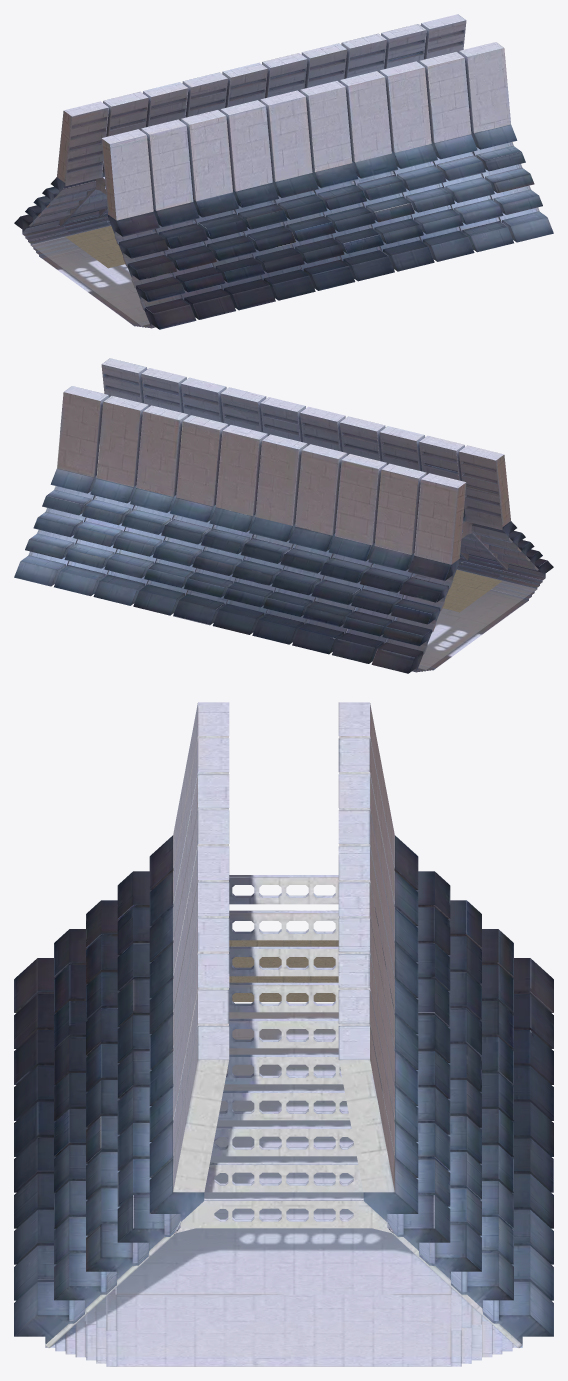
File: candidate.roomkit.warehouse-17b3.glb
3 views of the same model, one above another, from view 1: azimuth 30°, elevation 25°; view 2: azimuth 150°, elevation 25°; view 3: azimuth 270°, elevation 25° (orthographic). The views are drawn at different scales.
Visible parts, largest first — view 1: Cube, Plane.001, Plane; view 2: Cube, Plane.001, Plane; view 3: Cube, Plane.001, Plane.
Part boxes in pixels (x1,y1,x2,y2): Cube: (14,14,553,329); Plane.001: (32,225,149,325); Plane: (66,226,124,268); Cube: (14,358,553,673); Plane.001: (418,569,535,669); Plane: (443,570,501,612); Cube: (14,702,553,1366); Plane.001: (75,1002,492,1356); Plane: (229,940,338,1001).
Size of the model in its own units: 10.7 by 4.22 by 6.79.
3 materials, 2 textured.
